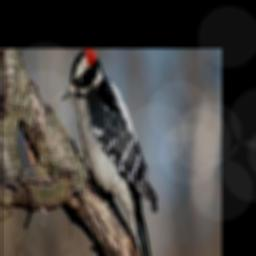Woodpecker: (58, 49, 159, 256)
